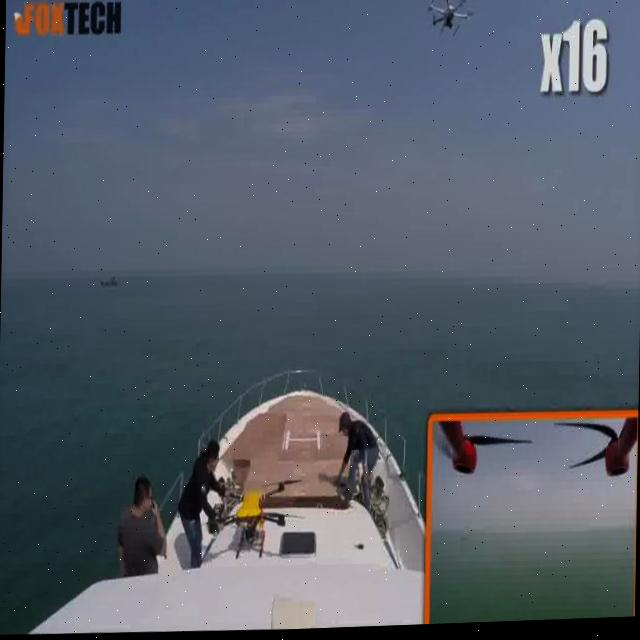drone: (212, 462, 300, 552), (417, 0, 502, 67)
